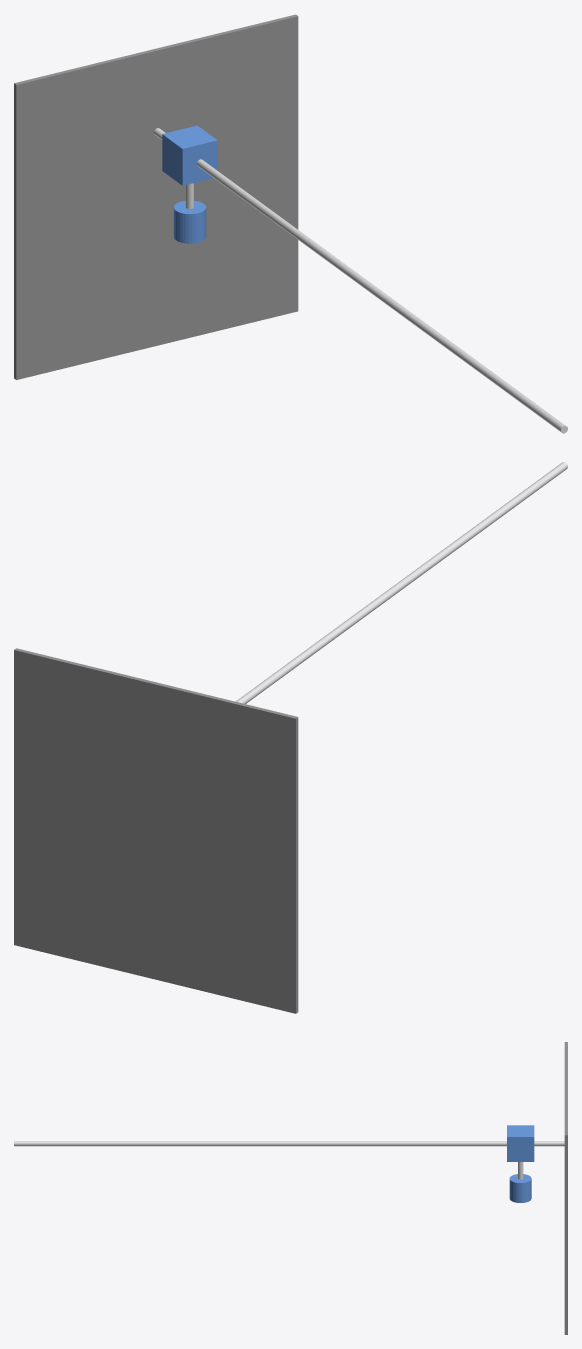
The model's file is pendulum.gltf.
The picture shows the model from 3 angles, top to bottom: view 1: azimuth 30°, elevation 25°; view 2: azimuth 150°, elevation 25°; view 3: azimuth 270°, elevation 25°; orthographic projection. The views are drawn at different scales.
Parts seen in each view (by area): view 1: b_gripper_base_001_, b_gripper_vertical_rod_001_, b_gripper_connector_block_001_, b_pendulum_rotation_body_001_; view 2: b_gripper_base_001_, b_gripper_vertical_rod_001_; view 3: b_gripper_vertical_rod_001_, b_gripper_base_001_, b_gripper_connector_block_001_, b_pendulum_rotation_body_001_.
Part boxes in pixels (left/top/right/bottom): b_gripper_base_001_: left=14, top=14, right=298, bottom=379; b_gripper_vertical_rod_001_: left=154, top=128, right=567, bottom=433; b_gripper_connector_block_001_: left=162, top=125, right=217, bottom=185; b_pendulum_rotation_body_001_: left=173, top=200, right=206, bottom=243; b_gripper_base_001_: left=14, top=648, right=298, bottom=1013; b_gripper_vertical_rod_001_: left=236, top=462, right=567, bottom=703; b_gripper_vertical_rod_001_: left=14, top=1141, right=564, bottom=1146; b_gripper_base_001_: left=564, top=1042, right=567, bottom=1334; b_gripper_connector_block_001_: left=507, top=1125, right=534, bottom=1161; b_pendulum_rotation_body_001_: left=509, top=1174, right=531, bottom=1202.
Size of the model in its own units: 200 by 200 by 503.
